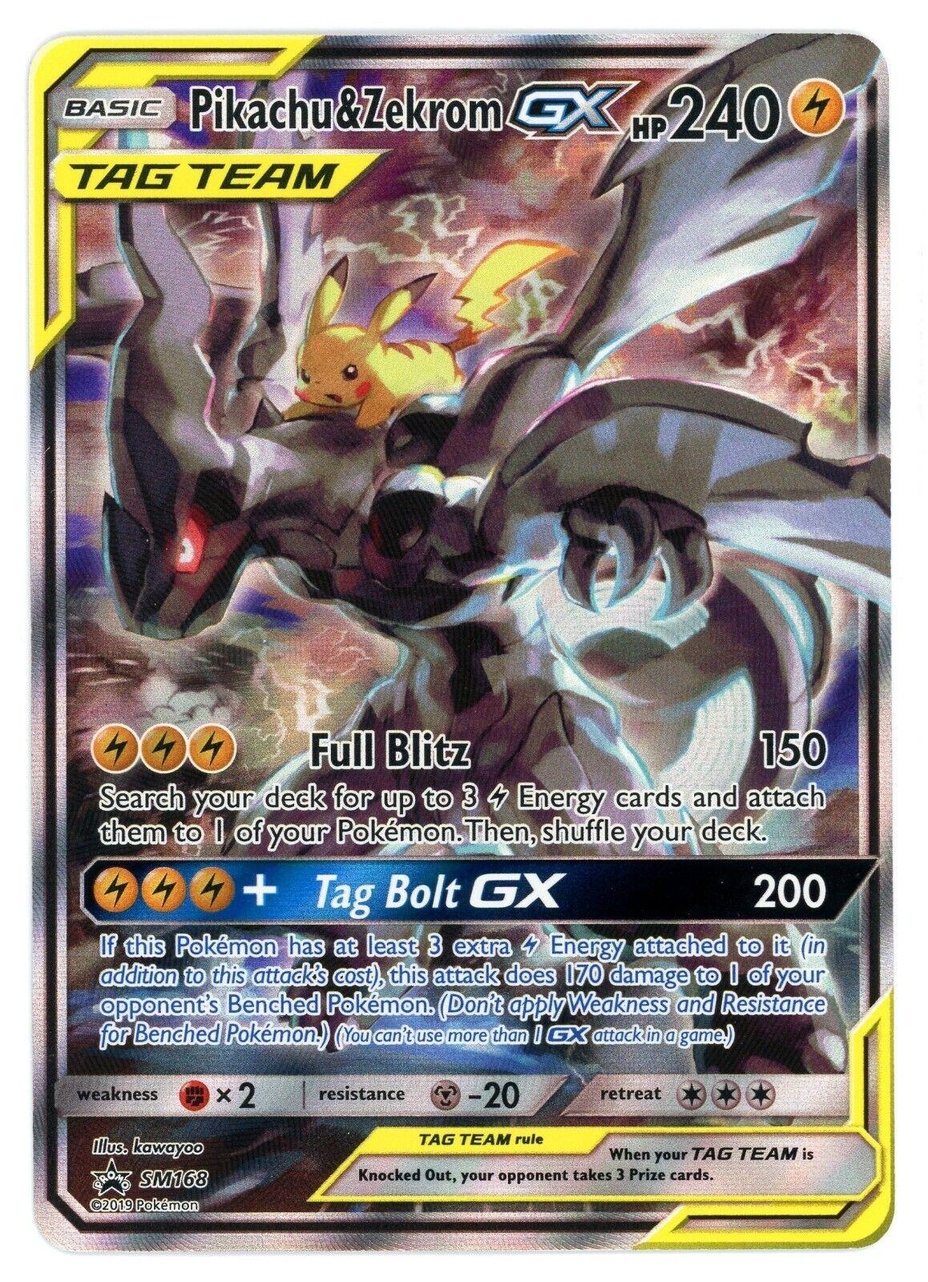card-2UtV: (28, 33, 896, 1253)
